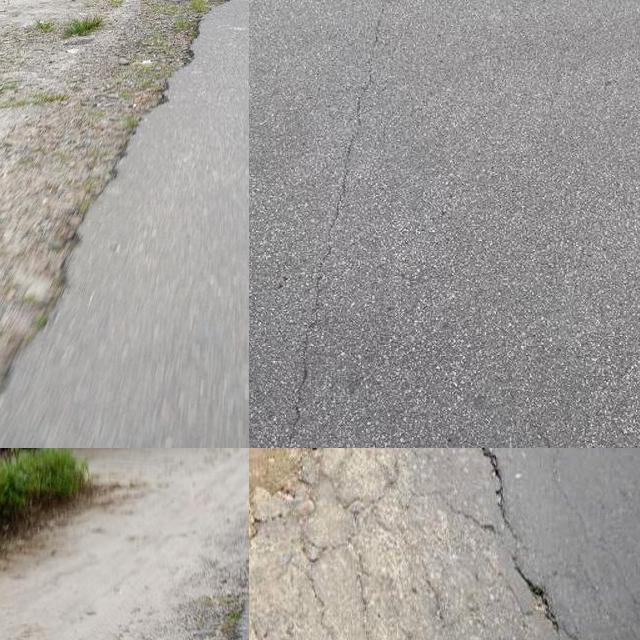Memanjang: (270, 0, 406, 448)
Pinggir: (0, 0, 249, 448), (249, 448, 592, 640)
